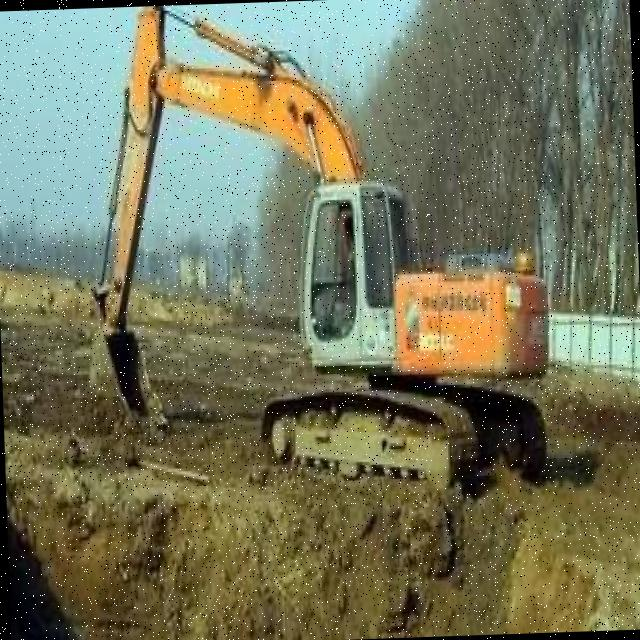Excavator: (81, 0, 549, 496)
